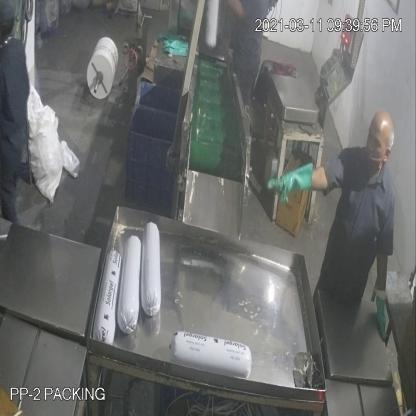glove: (264, 154, 318, 219), (370, 279, 393, 342)
